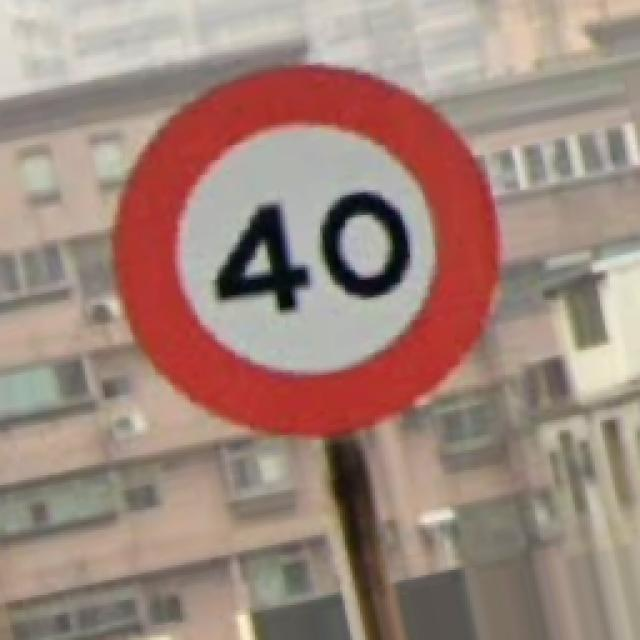Speed Limit -40-: (118, 68, 498, 432)
